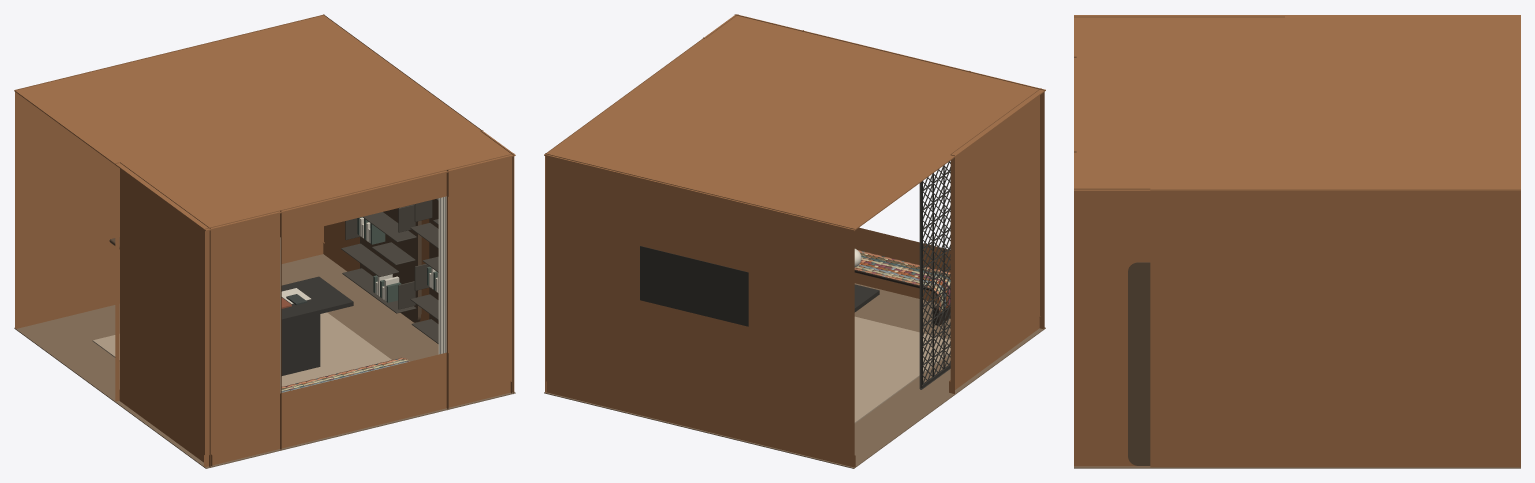
File: formal-1.glb
3 views of the same model, side by side, from view 1: azimuth 30°, elevation 25°; view 2: azimuth 150°, elevation 25°; view 3: azimuth 270°, elevation 25° (orthographic). The views are drawn at different scales.
Parts seen in each view (by area): view 1: DESIGN | formal removable wall finish, DESIGN | formal ceiling finish, DESIGN | formal floor finish, DESIGN | Required Blabla bookcase 2, DESIGN | Formal ground, DESIGN | Required Blabla bookcase 1, DESIGN | Working desk trestle, DESIGN | Working desk top, DESIGN | Formal soft window edge.001, DESIGN | Required Brera anniversary window bench; view 2: DESIGN | formal removable wall finish, DESIGN | formal ceiling finish, DESIGN | formal floor finish, DESIGN | Quiet artwork frame, DESIGN | Formal ground, DESIGN | Kumiko | Study light-filter beside the entry, DESIGN | Required Brera anniversary window bench; view 3: DESIGN | formal removable wall finish, DESIGN | formal ceiling finish, DESIGN | Required Blabla bookcase 1, DESIGN | formal floor finish.
Boxes of the visible parts, x1,y1,x2,y2 form: DESIGN | formal removable wall finish: (15,14,514,466); DESIGN | formal ceiling finish: (14,15,515,231); DESIGN | formal floor finish: (14,254,515,468); DESIGN | Required Blabla bookcase 2: (341,204,421,322); DESIGN | Formal ground: (92,312,391,386); DESIGN | Required Blabla bookcase 1: (410,198,438,343); DESIGN | Working desk trestle: (281,314,320,375); DESIGN | Working desk top: (281,276,353,323); DESIGN | Formal soft window edge.001: (438,196,446,354); DESIGN | Required Brera anniversary window bench: (281,357,409,392); DESIGN | formal removable wall finish: (545,14,1044,467); DESIGN | formal ceiling finish: (544,14,1045,231); DESIGN | formal floor finish: (544,283,1045,468); DESIGN | Quiet artwork frame: (640,246,748,326); DESIGN | Formal ground: (854,316,950,423); DESIGN | Kumiko | Study light-filter beside the entry: (919,161,950,389); DESIGN | Required Brera anniversary window bench: (854,250,950,325); DESIGN | formal removable wall finish: (1074,16,1520,467); DESIGN | formal ceiling finish: (1074,15,1520,191); DESIGN | Required Blabla bookcase 1: (1128,262,1150,465); DESIGN | formal floor finish: (1074,466,1520,468).
Bounding box in the file's own units: 3.71 × 2.74 × 3.98.
